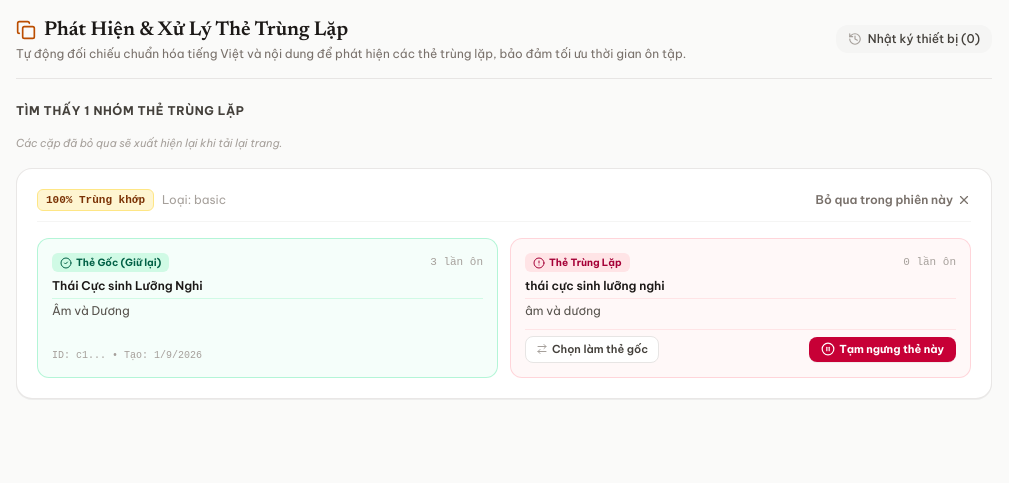
it: Phase F6.9: DuplicateDetectionDashboard Component › allows swapping primary card between items in a candidate group
Check: the text "Phát Hiện & Xử Lý Thẻ Trùng Lặp" is shown, box [44,16,348,44]
Click the button "Chọn làm thẻ gốc" at (592,349), box [525,336,659,362]
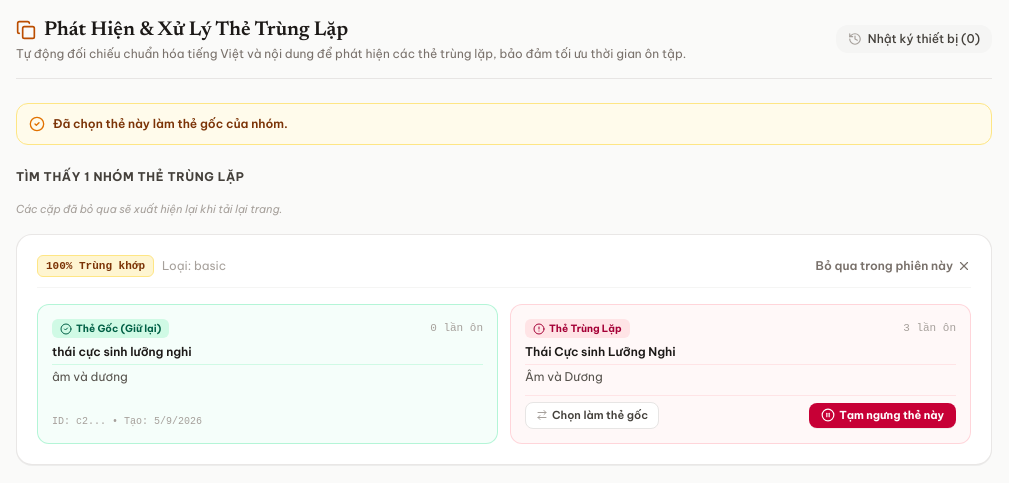
Check: the text "Đã chọn thẻ này làm thẻ gốc của nhóm." is shown, box [53,116,288,132]
